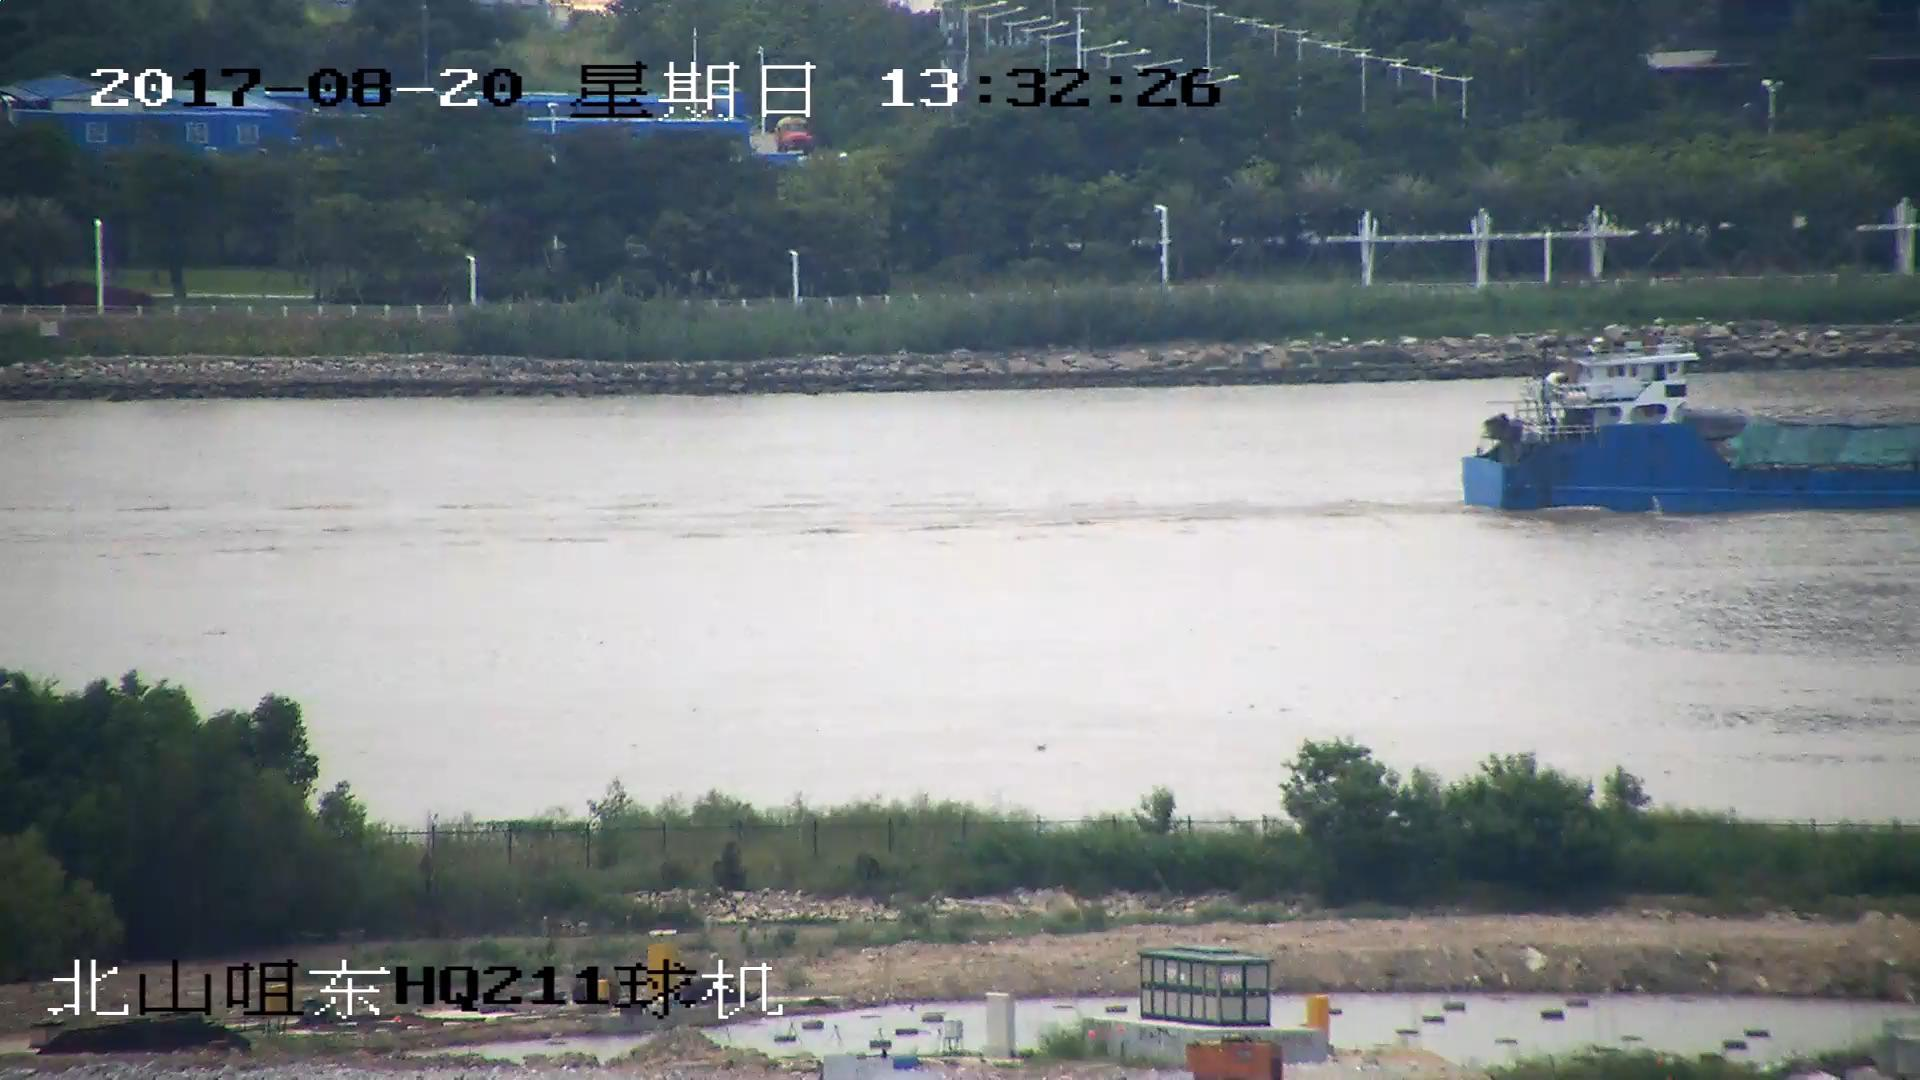Ship: (1460, 357, 1920, 513)
